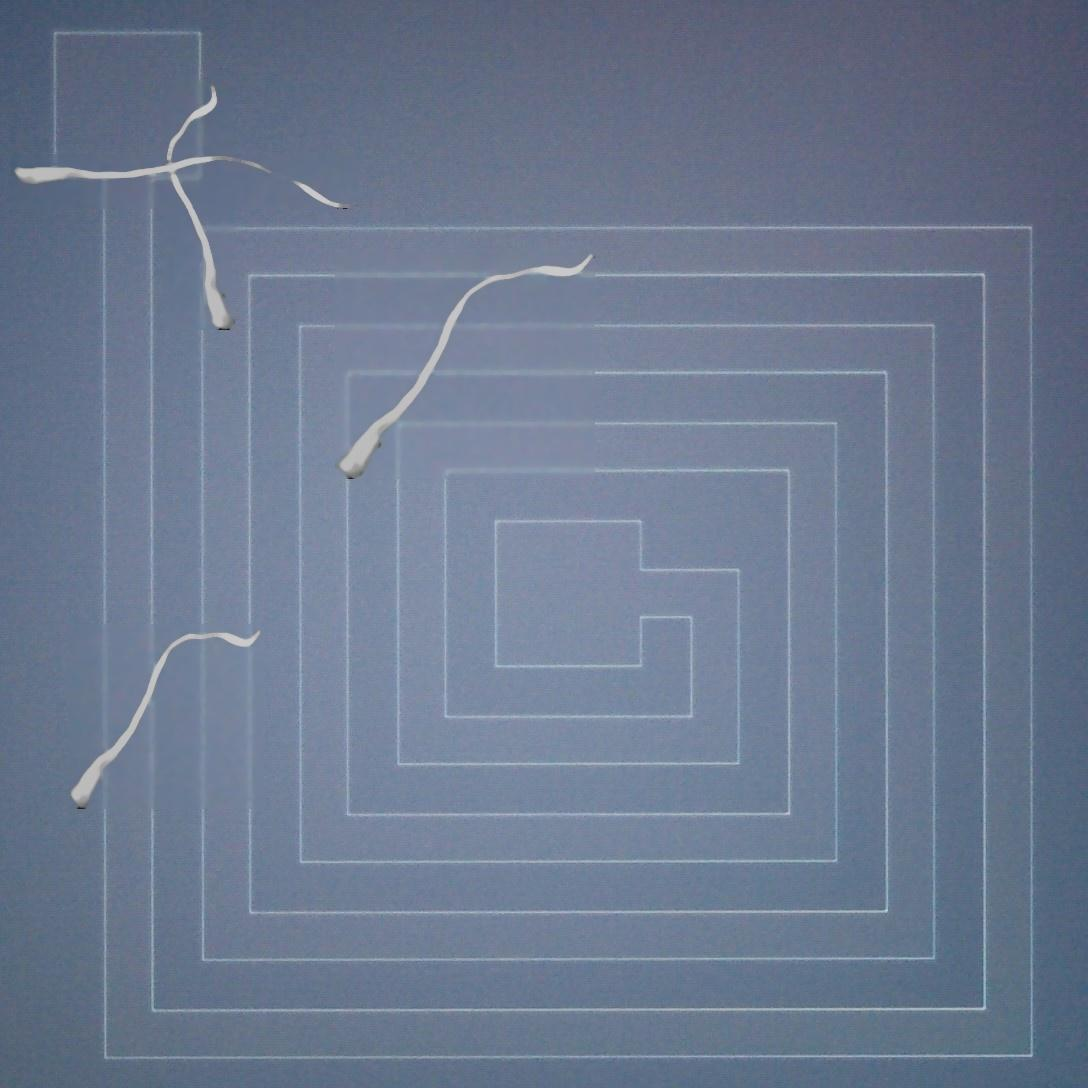foreign: (336, 248, 601, 488), (63, 619, 269, 818), (13, 145, 364, 219), (159, 79, 245, 332)
